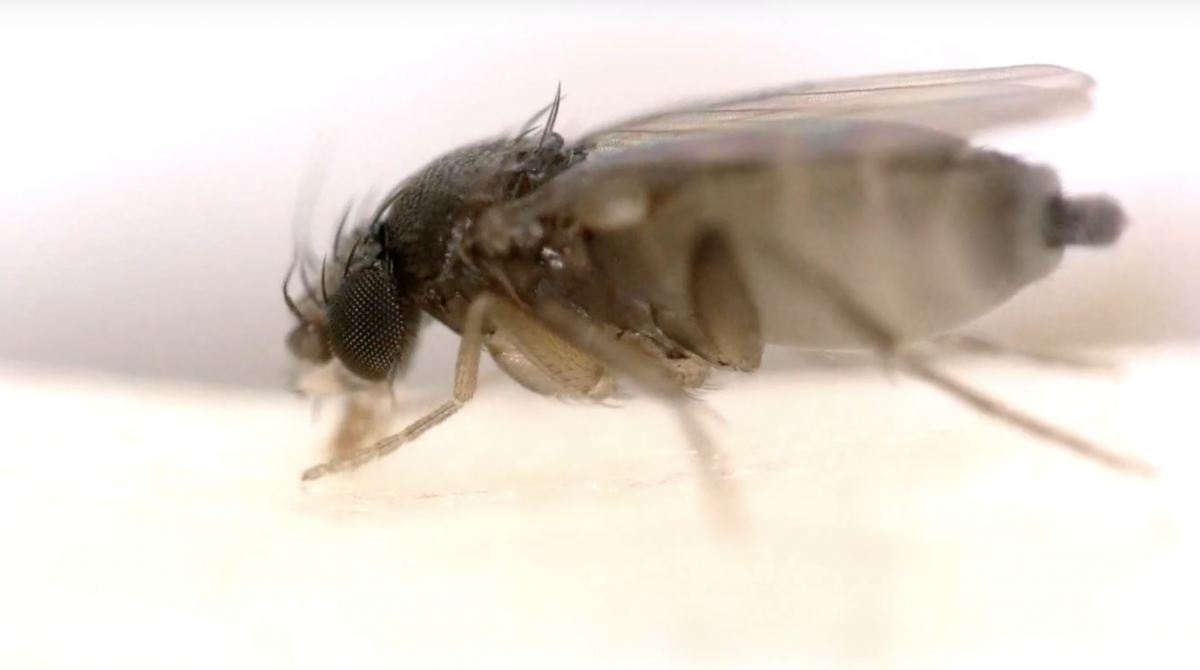phorid fly: (181, 18, 1174, 509)
